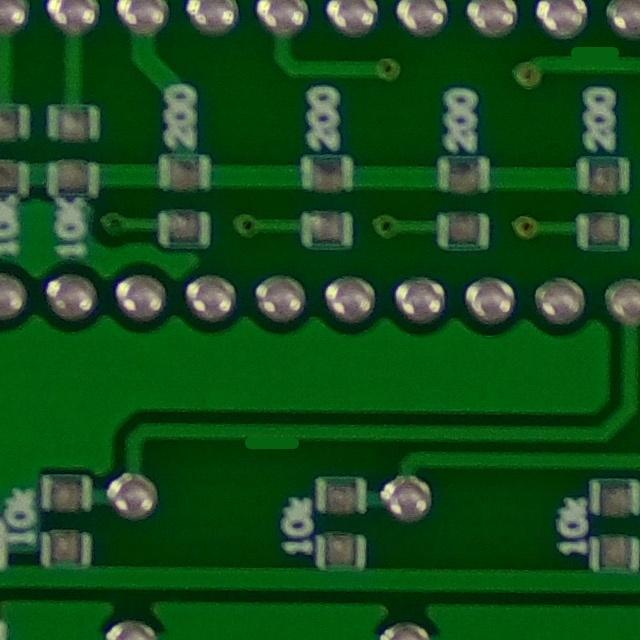spur: (230, 417, 312, 460), (563, 33, 628, 76)
